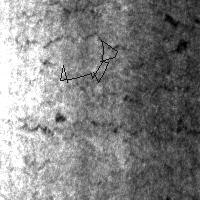crazing: (27, 32, 176, 157), (18, 9, 146, 74), (22, 152, 200, 196), (60, 40, 117, 82)
